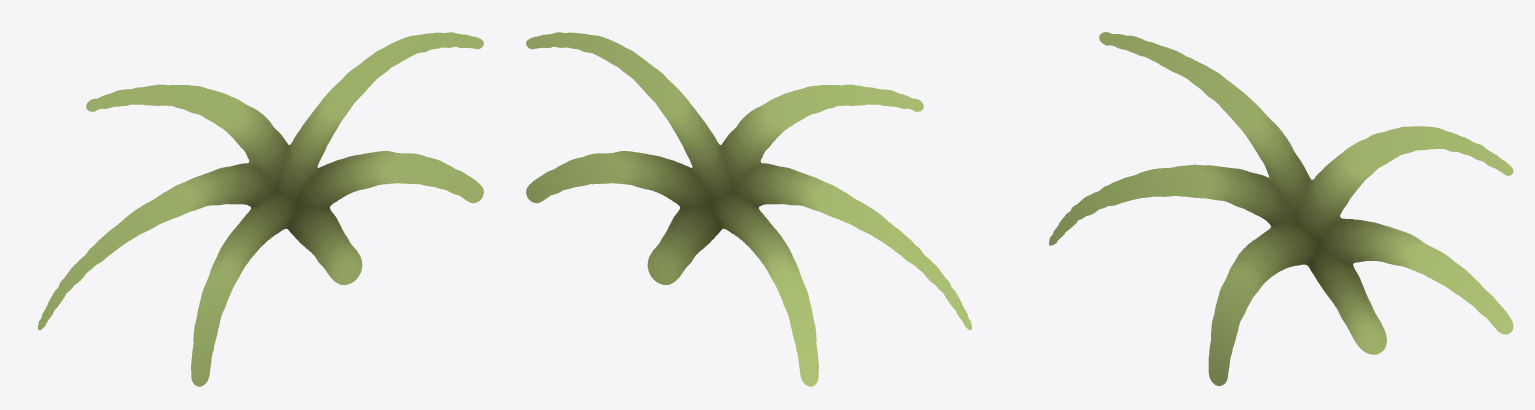
The model's file is hp_weed031.glb.
3 renders of one model, left to right at view 1: azimuth 30°, elevation 25°; view 2: azimuth 150°, elevation 25°; view 3: azimuth 330°, elevation 25°, orthographic. The views are drawn at different scales.
Visible parts, largest first — view 1: _MeshInstance3D_7; view 2: _MeshInstance3D_7; view 3: _MeshInstance3D_7.
Boxes of the visible parts, x1,y1,x2,y2 form: _MeshInstance3D_7: [38, 32, 483, 386]; _MeshInstance3D_7: [526, 32, 971, 386]; _MeshInstance3D_7: [1049, 32, 1513, 385].
Bounding box in the file's own units: 10.1 × 6.83 × 0.04.
1 material, 1 textured.
